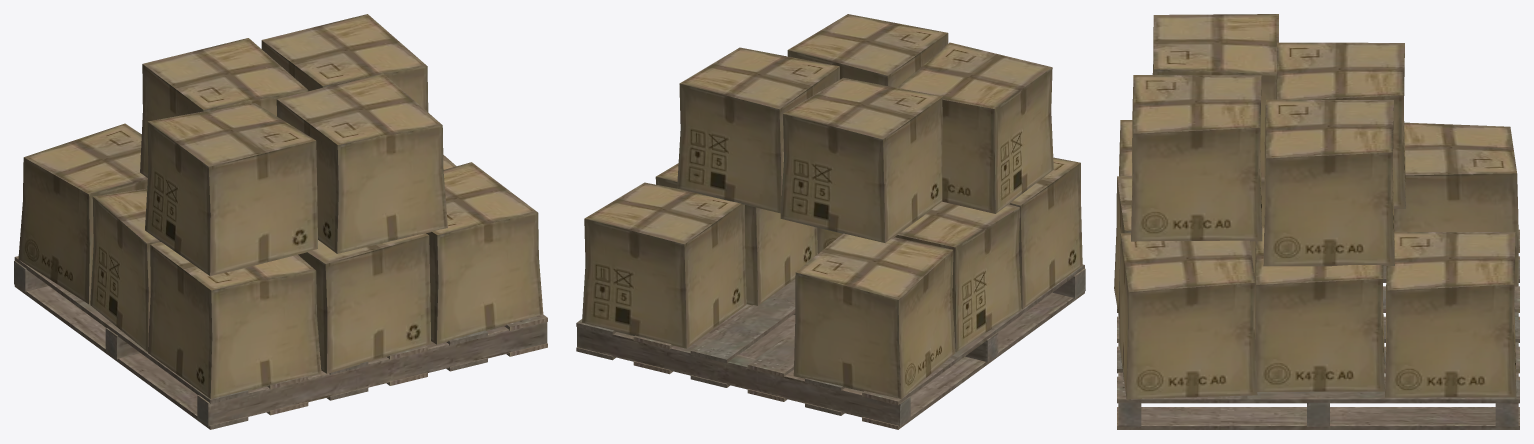
Rendered from pallet_boxes_c_snow.glb.
The picture shows the model from 3 angles, left to right: view 1: azimuth 30°, elevation 25°; view 2: azimuth 150°, elevation 25°; view 3: azimuth 270°, elevation 25°; orthographic projection. The views are drawn at different scales.
Visible parts, largest first — view 1: pallet_boxes_c_LOD0; view 2: pallet_boxes_c_LOD0; view 3: pallet_boxes_c_LOD0.
Boxes of the visible parts, x1,y1,x2,y2 form: pallet_boxes_c_LOD0: [14, 14, 547, 429]; pallet_boxes_c_LOD0: [576, 14, 1085, 429]; pallet_boxes_c_LOD0: [1114, 14, 1519, 429].
Size of the model in its own units: 1.5 by 1.04 by 1.51.
1 material, 1 textured.
